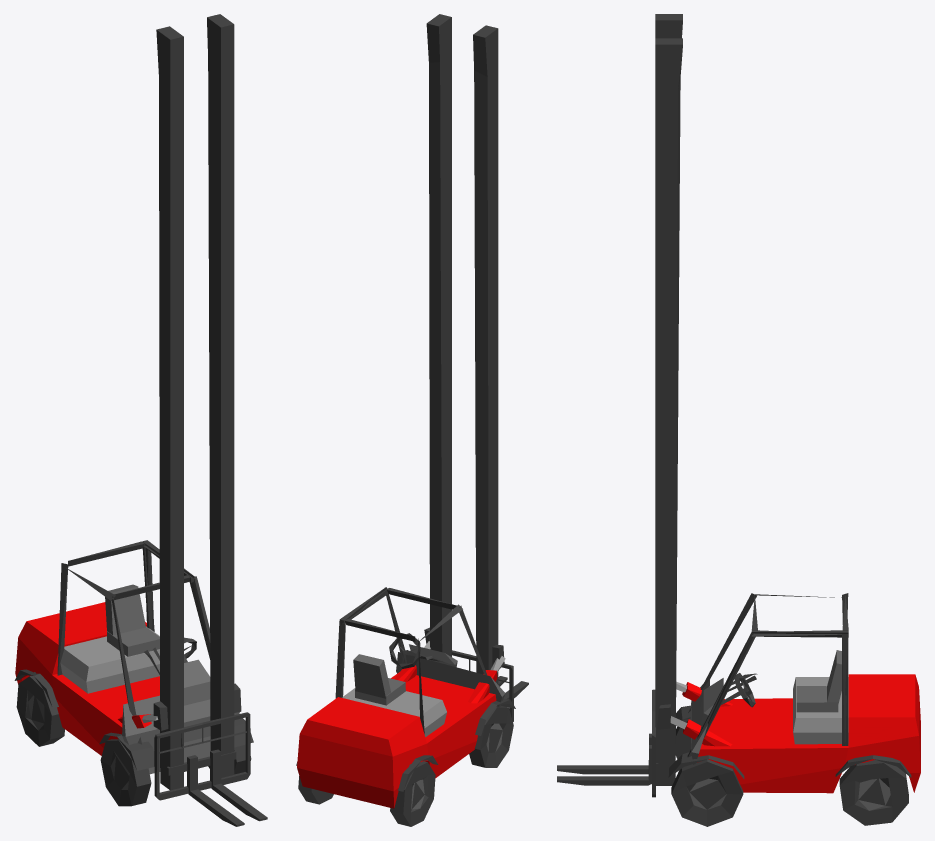
Rendered from ForkliftFBX.fbx.
3 renders of one model, left to right at view 1: azimuth 30°, elevation 25°; view 2: azimuth 150°, elevation 25°; view 3: azimuth 270°, elevation 25°, orthographic. The views are drawn at different scales.
Parts seen in each view (by area): view 1: Forklift, Lift; view 2: Forklift, Lift; view 3: Forklift, Lift.
Part boxes in pixels (x1,y1,x2,y2): Forklift: (14,14,253,806); Lift: (154,712,267,826); Forklift: (296,14,515,826); Lift: (451,650,528,721); Forklift: (655,14,920,826); Lift: (557,689,658,797).
Size of the model in its own units: 84.61 by 540 by 231.
